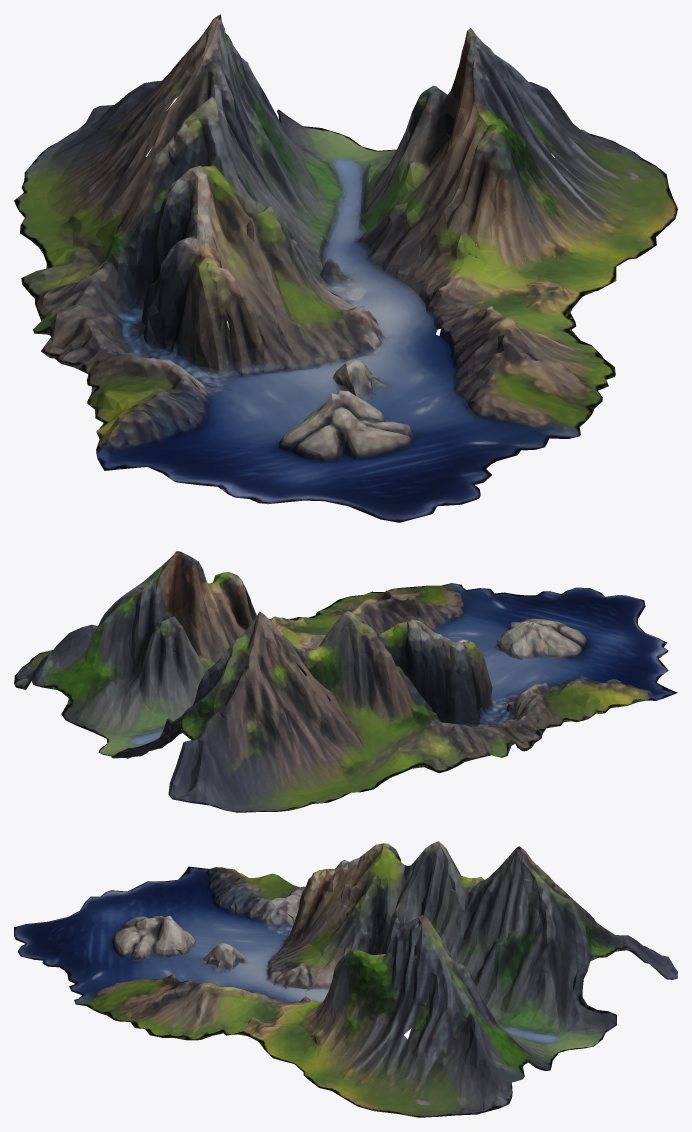
Rendered from Twin peaks, lake below.glb.
3 renders of one model, top to bottom at view 1: azimuth 30°, elevation 25°; view 2: azimuth 150°, elevation 25°; view 3: azimuth 270°, elevation 25°, orthographic. The views are drawn at different scales.
Visible parts, largest first — view 1: world; view 2: world; view 3: world.
Part boxes in pixels (x1,y1,x2,y2): world: (14, 14, 677, 522); world: (14, 551, 677, 812); world: (14, 841, 677, 1117).
Size of the model in its own units: 0.8927 by 0.2466 by 1.
Materials: 1 (1 with a texture image).
